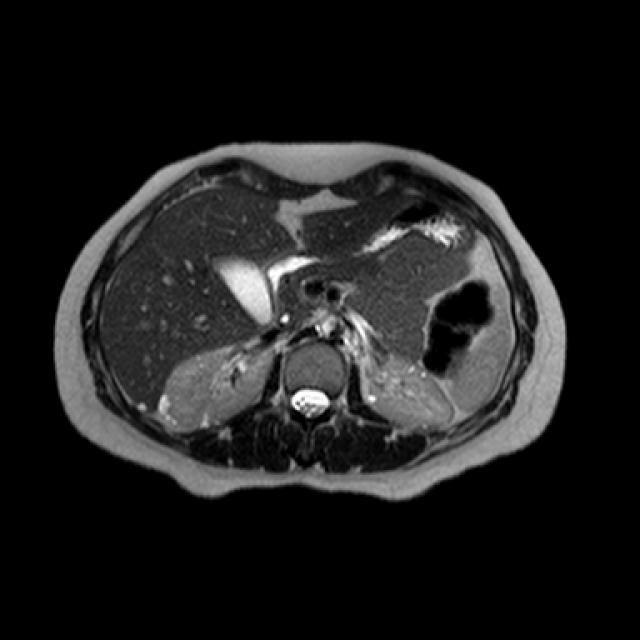sag: (159, 344, 276, 434)
sol: (363, 349, 453, 428)
